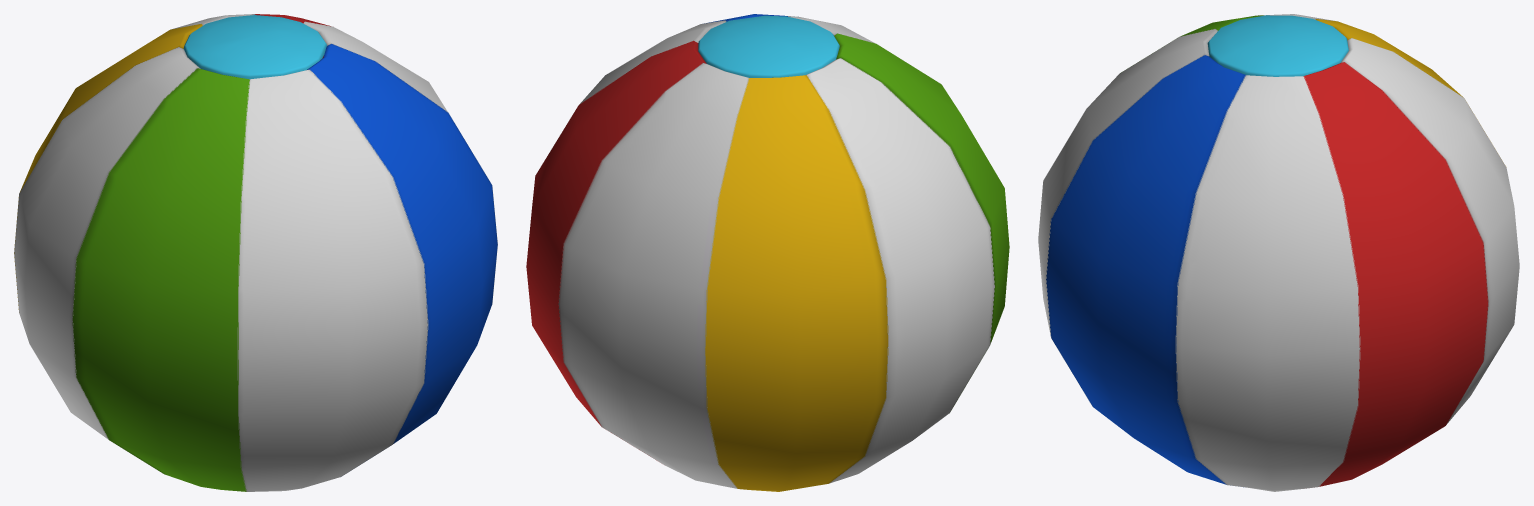
File: beachball.fbx
3 renders of one model, left to right at view 1: azimuth 30°, elevation 25°; view 2: azimuth 150°, elevation 25°; view 3: azimuth 270°, elevation 25°, orthographic.
Parts seen in each view (by area): view 1: beachball; view 2: beachball; view 3: beachball.
Boxes of the visible parts, <box> form: beachball: <box>14,14,497,491</box>; beachball: <box>526,14,1009,491</box>; beachball: <box>1038,14,1519,491</box>.
Size of the model in its own units: 94.19 by 93.91 by 94.48.
